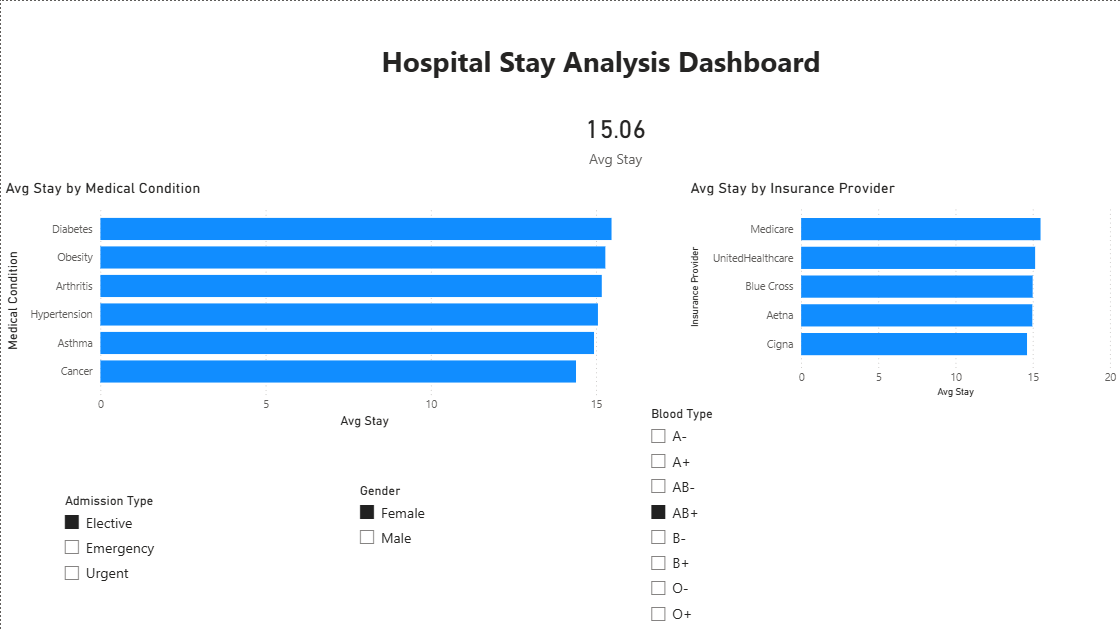

This screenshot's page, from the dashboard's own definition file:
{"tool":"powerbi","page":{"name":"Page 1","canvas":[1280,720],"ordinal":0},"visuals":[{"type":"card","fields":{"Values":["Cleaned Dataset.Avg Stay"]},"box":[640,100,125,111.7],"z":0},{"type":"clusteredBarChart","fields":{"Category":["Cleaned Dataset.Medical Condition"],"Y":["Cleaned Dataset.Avg Stay"]},"box":[0,203.3,730,290],"z":1000},{"type":"barChart","fields":{"Category":["Cleaned Dataset.Insurance Provider"],"Y":["Cleaned Dataset.Avg Stay"]},"box":[783.3,203.3,496.7,255],"z":2000},{"type":"slicer","fields":{"Values":["Cleaned Dataset.Gender"]},"box":[396.7,545,288.3,175],"z":3000},{"type":"slicer","fields":{"Values":["Cleaned Dataset.Admission Type"]},"box":[60,556.7,288.3,163.3],"z":4000},{"type":"slicer","fields":{"Values":["Cleaned Dataset.Blood Type"]},"box":[730,458.3,360,261.7],"z":5000},{"type":"textbox","box":[392.9,41.4,585.7,58.6],"z":6000}]}

Visuals, with their boxes in screenshot pixels (x1, y1, x2, y2), scaled from the page's 1280x720 canvas onto the 1120x631 screenshot:
card - Cleaned Dataset.Avg Stay: 560,88,669,186
clusteredBarChart - Cleaned Dataset.Medical Condition x Cleaned Dataset.Avg Stay: 0,178,639,432
barChart - Cleaned Dataset.Insurance Provider x Cleaned Dataset.Avg Stay: 685,178,1119,402
slicer - Cleaned Dataset.Gender: 347,478,599,630
slicer - Cleaned Dataset.Admission Type: 52,488,305,630
slicer - Cleaned Dataset.Blood Type: 639,402,954,630
textbox: 344,36,856,88
